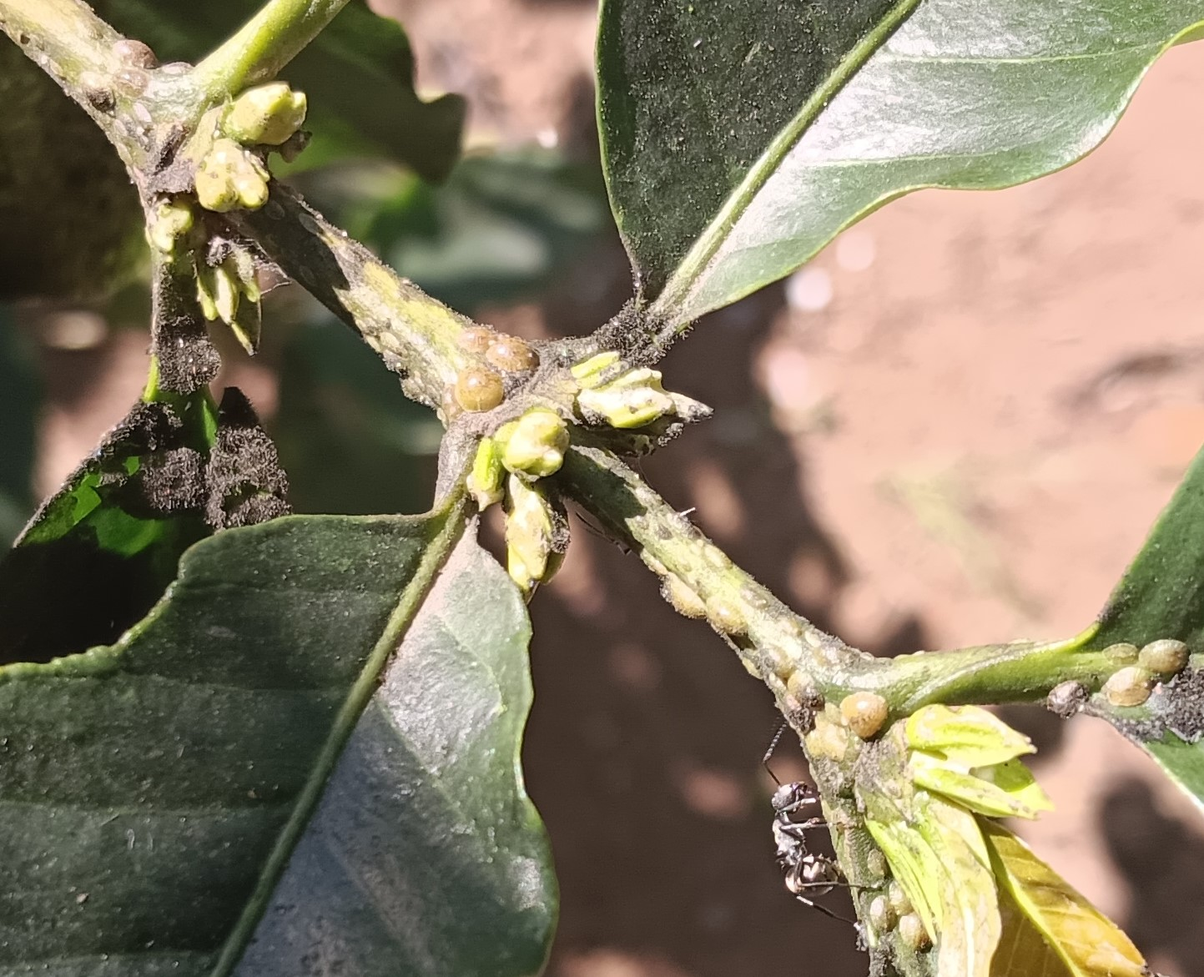Scale_Insect: (457, 364, 503, 411), (840, 692, 888, 737), (661, 573, 706, 620), (487, 341, 541, 373), (1139, 639, 1190, 672), (1107, 668, 1151, 706), (707, 598, 746, 634), (788, 674, 825, 711), (1047, 681, 1089, 713), (80, 72, 113, 110), (114, 39, 158, 67), (900, 913, 929, 950), (760, 644, 792, 677), (456, 326, 495, 351), (871, 895, 897, 932), (703, 543, 733, 574), (115, 68, 147, 96), (1103, 643, 1139, 666), (868, 849, 887, 878)
